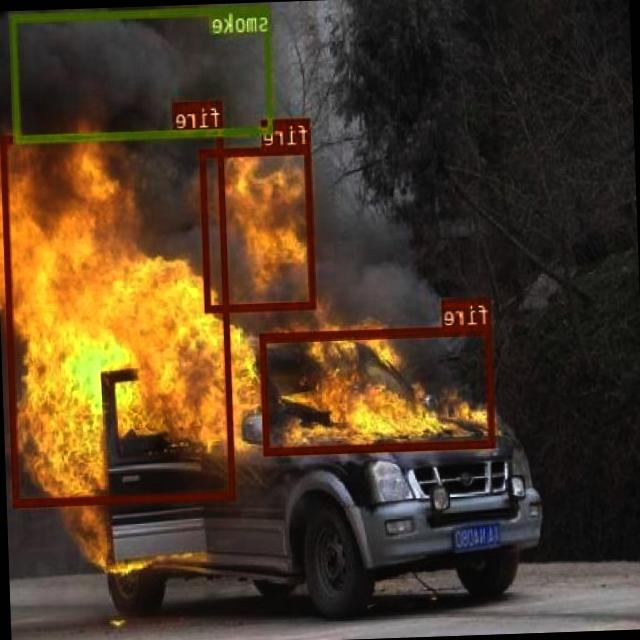fire: (2, 128, 235, 504), (261, 324, 496, 454), (200, 144, 317, 312)
smoke: (12, 5, 274, 142)
